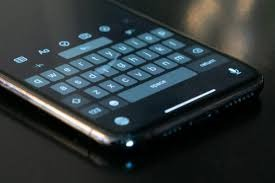keyboard: (23, 52, 203, 115)
